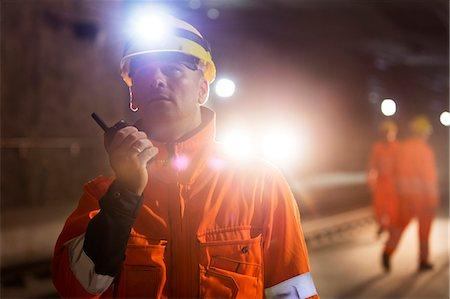safe person: (55, 16, 312, 287)
